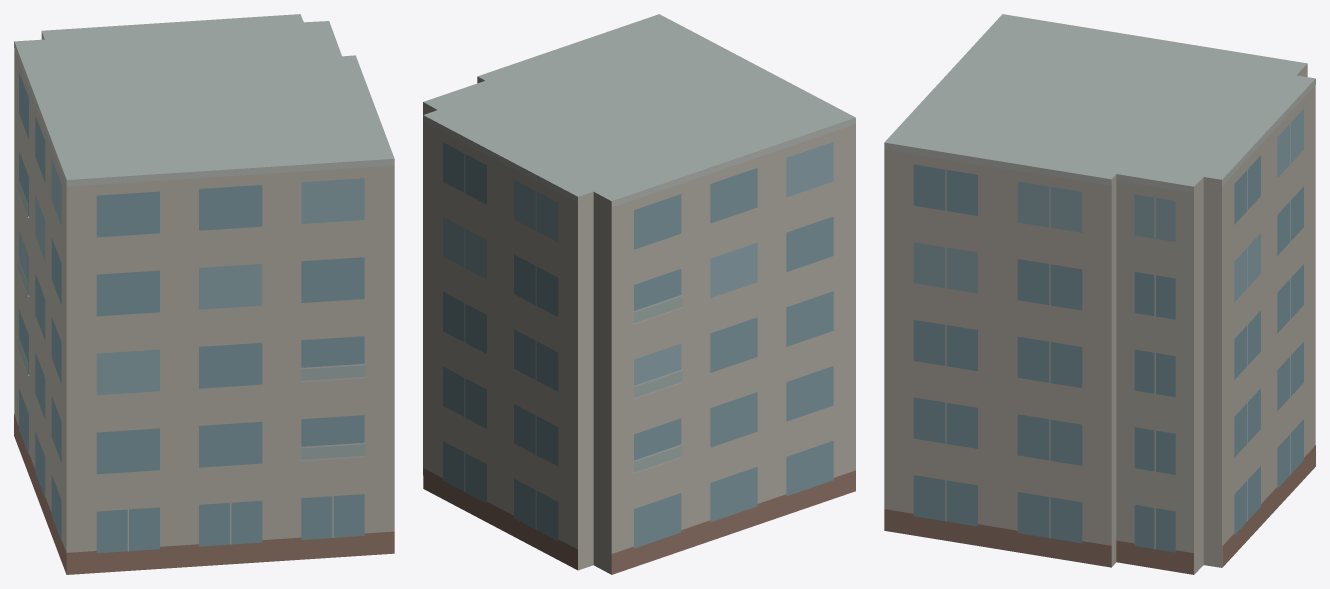
The model's file is survey-upis-32878020.glb.
The picture shows the model from 3 angles, left to right: view 1: azimuth 30°, elevation 25°; view 2: azimuth 150°, elevation 25°; view 3: azimuth 270°, elevation 25°; orthographic projection. The views are drawn at different scales.
Visible parts, largest first — view 1: survey-upis-32878020.tmp; view 2: survey-upis-32878020.tmp; view 3: survey-upis-32878020.tmp.
Boxes of the visible parts, box(x1,y1,x2,y2) form: survey-upis-32878020.tmp: box(14, 14, 394, 574); survey-upis-32878020.tmp: box(423, 14, 855, 574); survey-upis-32878020.tmp: box(884, 14, 1315, 574).
Size of the model in its own units: 13.75 by 14.4 by 14.52.
